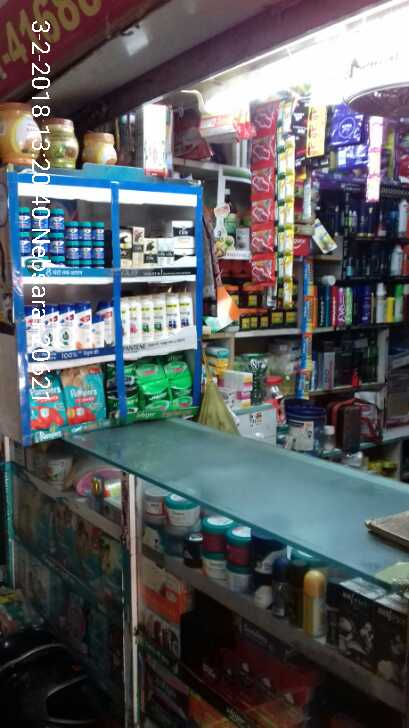vicks: (18, 206, 108, 271)
